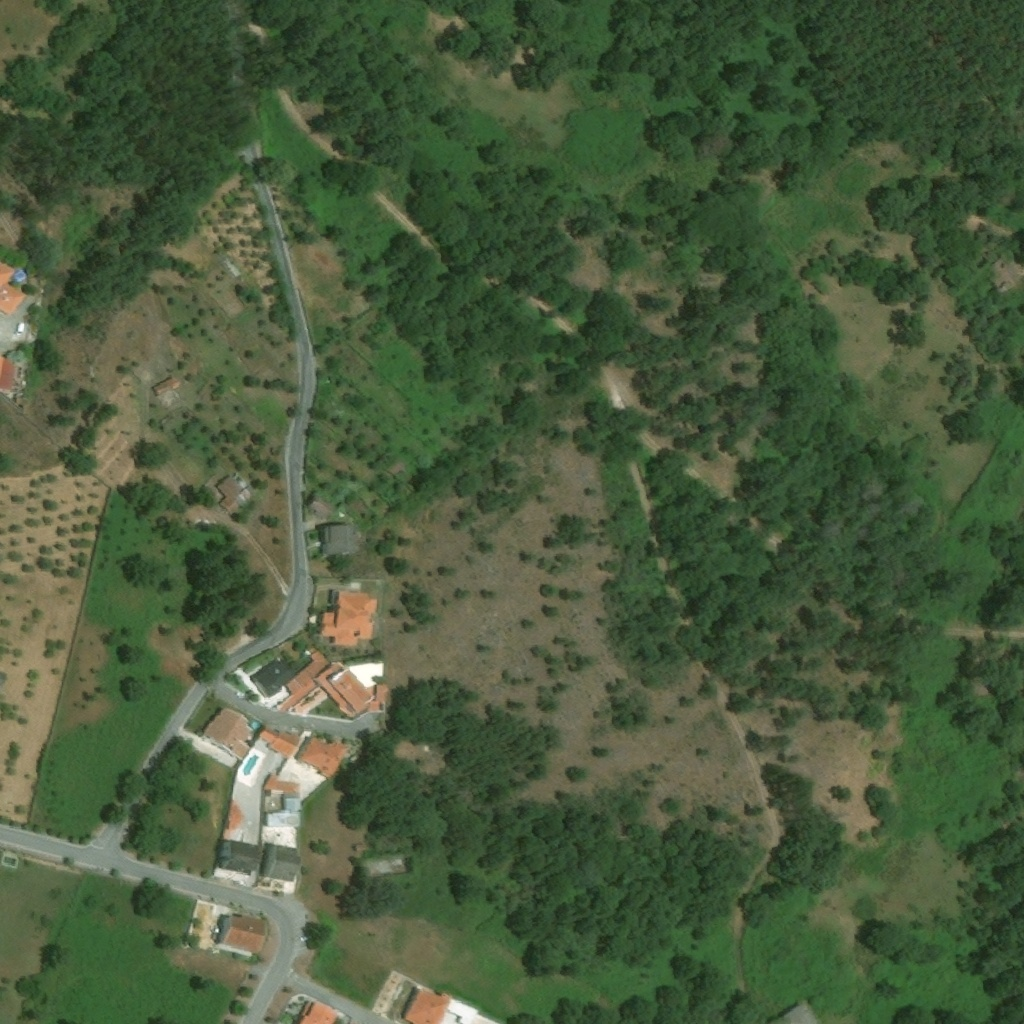0 no-damage: (314, 663, 374, 718), (320, 591, 376, 647), (202, 709, 255, 761), (284, 648, 326, 700), (298, 736, 347, 779), (215, 914, 266, 954), (401, 989, 453, 1023), (213, 476, 253, 519), (250, 661, 295, 699), (262, 844, 301, 882), (217, 839, 259, 874), (0, 261, 24, 318), (295, 998, 341, 1023), (259, 728, 298, 757), (266, 798, 301, 828), (769, 1002, 817, 1023), (319, 525, 352, 555), (264, 774, 297, 793), (0, 356, 15, 392), (152, 378, 179, 396), (376, 685, 385, 703), (354, 843, 368, 851)
